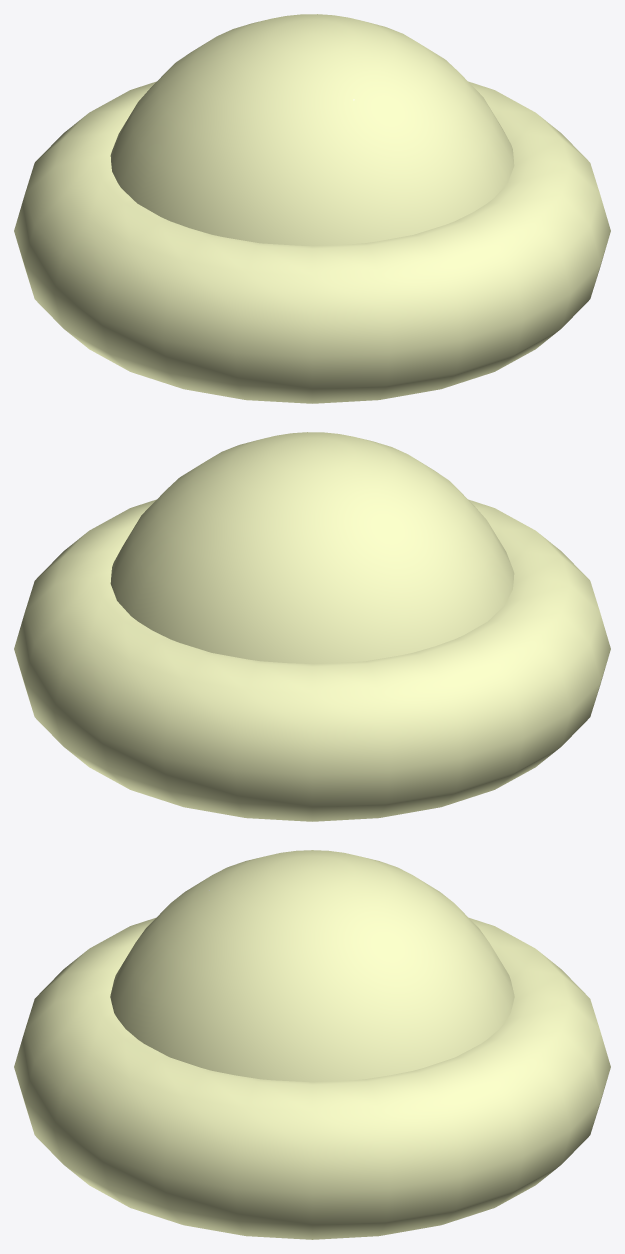
File: Ship.obj
3 views of the same model, one above another, from view 1: azimuth 30°, elevation 25°; view 2: azimuth 150°, elevation 25°; view 3: azimuth 270°, elevation 25° (orthographic).
Parts seen in each view (by area): view 1: Torus001, Sphere001; view 2: Torus001, Sphere001; view 3: Torus001, Sphere001.
Part boxes in pixels (bbox=[...]): Torus001: bbox=[14, 81, 610, 403]; Sphere001: bbox=[110, 14, 514, 245]; Torus001: bbox=[14, 499, 610, 821]; Sphere001: bbox=[110, 432, 514, 663]; Torus001: bbox=[14, 918, 610, 1239]; Sphere001: bbox=[110, 850, 514, 1082].
Bounding box in the file's own units: 1.1 × 0.55 × 1.1.
